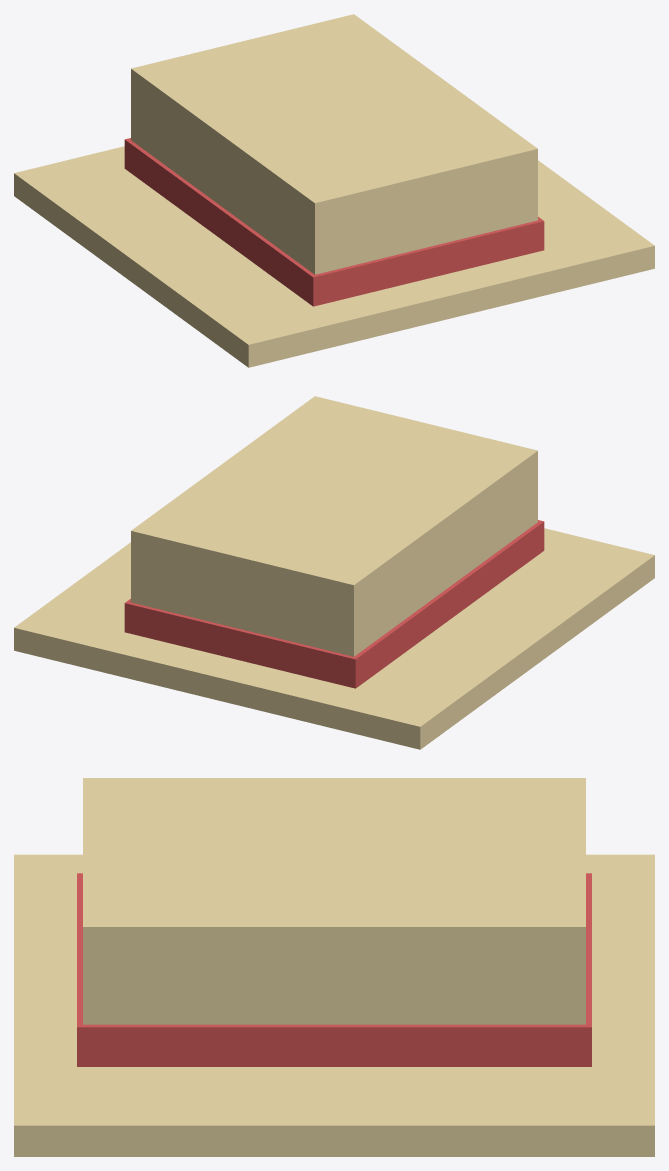
File: chapeu_palha.glb
3 renders of one model, top to bottom at view 1: azimuth 30°, elevation 25°; view 2: azimuth 150°, elevation 25°; view 3: azimuth 270°, elevation 25°, orthographic. The views are drawn at different scales.
Visible parts, largest first — view 1: ChapeuPalha; view 2: ChapeuPalha; view 3: ChapeuPalha.
Part boxes in pixels (bbox=[...]): ChapeuPalha: bbox=[14, 14, 654, 367]; ChapeuPalha: bbox=[14, 396, 654, 749]; ChapeuPalha: bbox=[14, 778, 654, 1156].
Bounding box in the file's own units: 1.02 × 0.2967 × 1.02.
